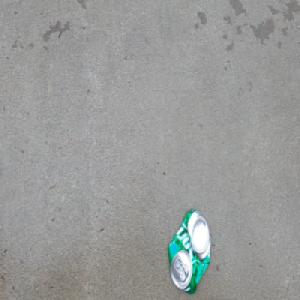SodaCan: (166, 207, 213, 297)
